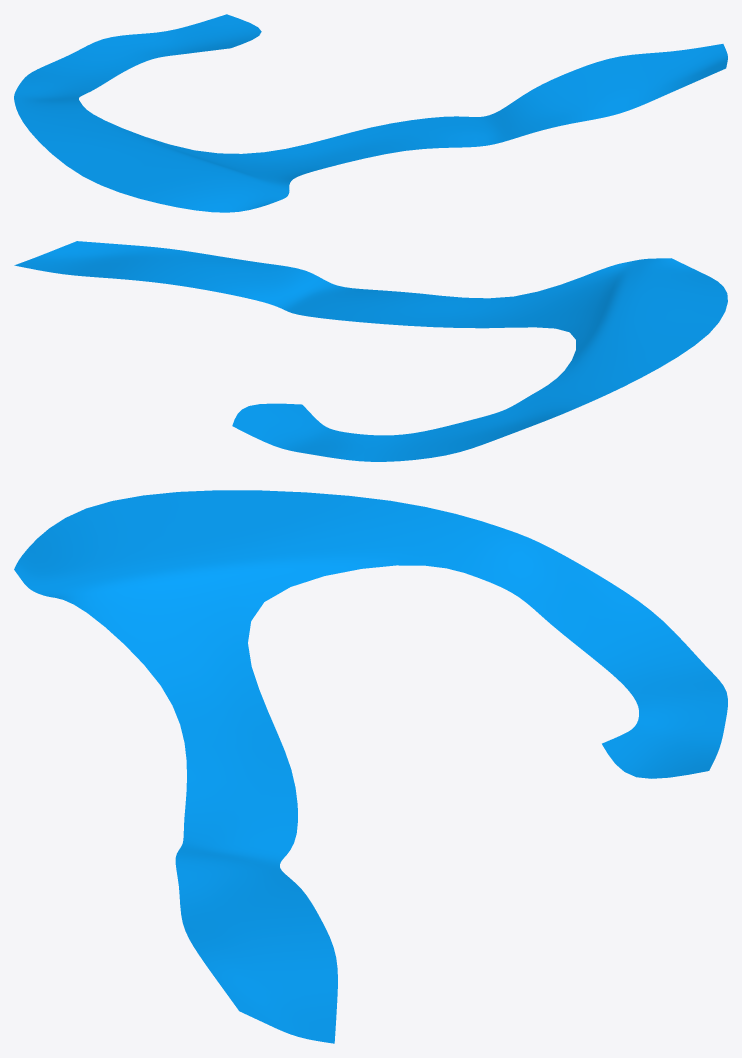
Rendered from Terrain_WaterPlane.fbx.
The picture shows the model from 3 angles, top to bottom: view 1: azimuth 30°, elevation 25°; view 2: azimuth 150°, elevation 25°; view 3: azimuth 270°, elevation 25°; orthographic projection. The views are drawn at different scales.
Visible parts, largest first — view 1: WaterPlane__1_2; view 2: WaterPlane__1_2; view 3: WaterPlane__1_2.
Boxes of the visible parts, x1,y1,x2,y2 form: WaterPlane__1_2: [14, 14, 727, 212]; WaterPlane__1_2: [14, 241, 727, 461]; WaterPlane__1_2: [14, 490, 727, 1043].
Size of the model in its own units: 16184 by 1487 by 10521.
